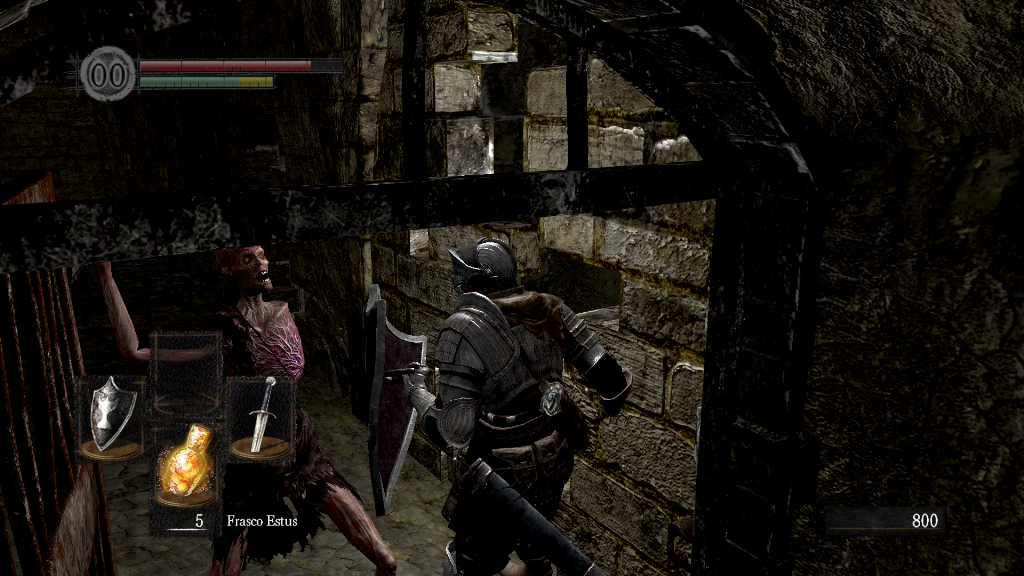health: (138, 58, 343, 71)
hollow: (90, 247, 399, 576)
humanity: (80, 45, 136, 102)
player: (366, 236, 634, 576)
souls: (825, 506, 945, 536)
stamina: (138, 74, 274, 88)
